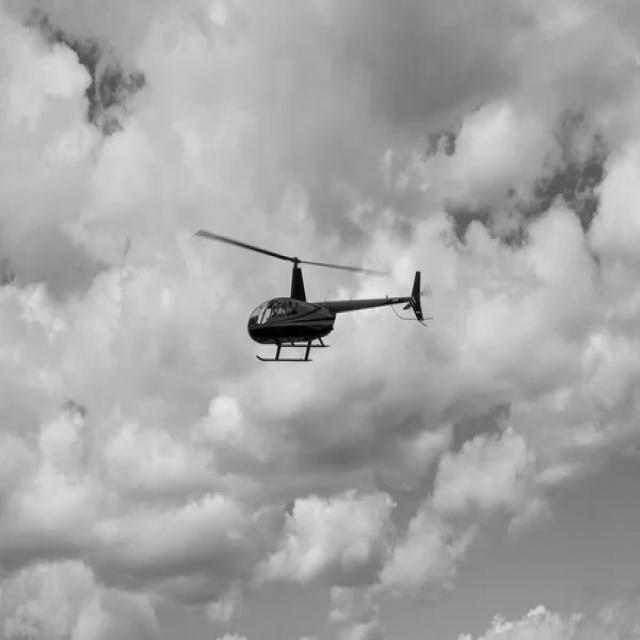Helicopter: (196, 229, 425, 362)
